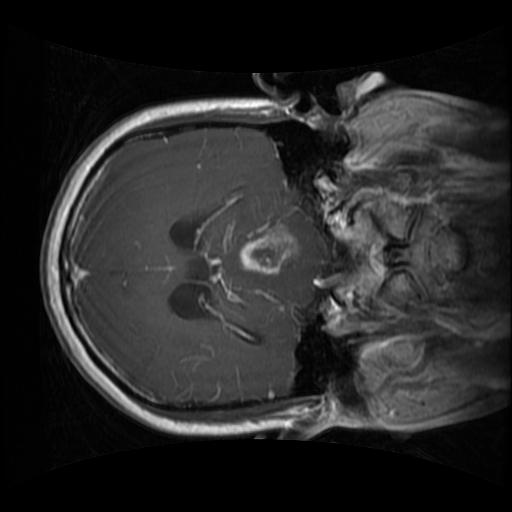glioma: (230, 216, 306, 277)
